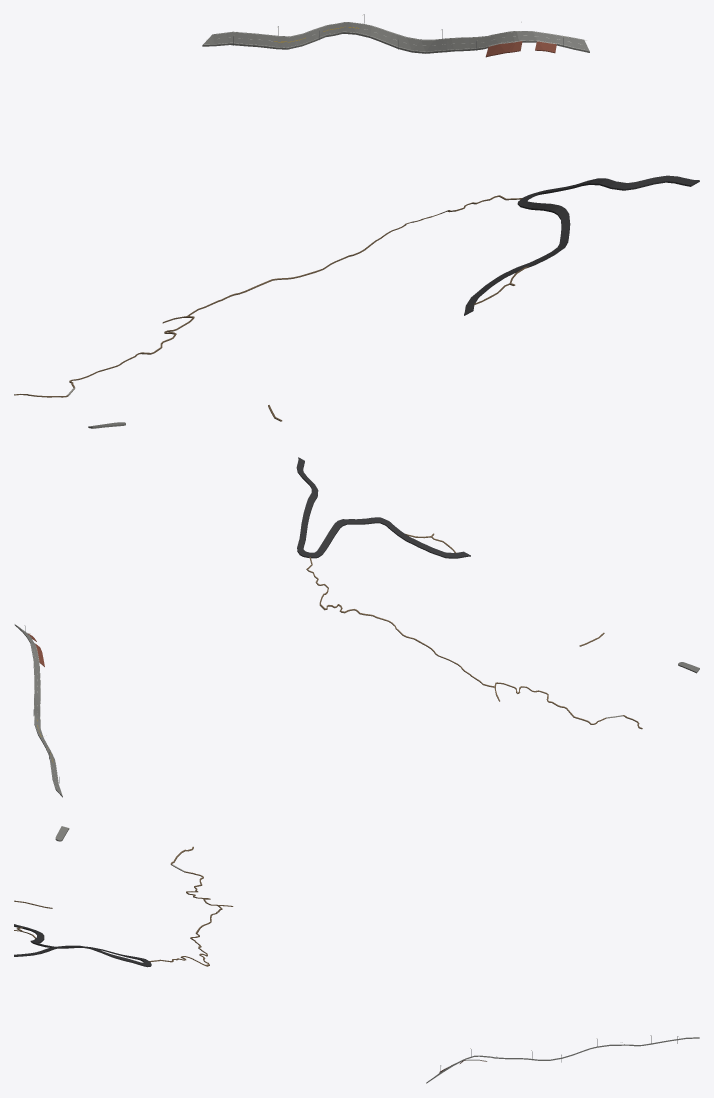
3 renders of one model, top to bottom at view 1: azimuth 30°, elevation 25°; view 2: azimuth 150°, elevation 25°; view 3: azimuth 270°, elevation 25°, orthographic. The views are drawn at different scales.
Size of the model in its own units: 588 by 124 by 583.
